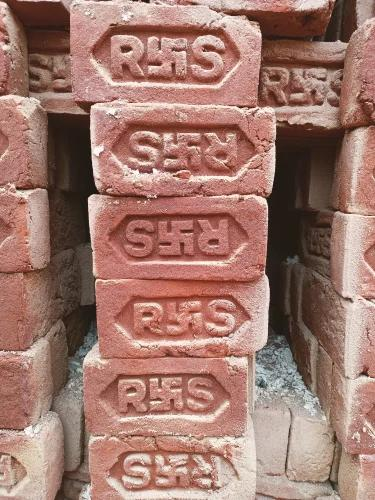brick: (69, 4, 263, 104), (93, 105, 277, 196), (89, 199, 265, 283), (98, 278, 270, 358), (84, 356, 251, 436), (90, 436, 259, 496), (255, 39, 344, 126), (288, 419, 335, 486), (258, 410, 289, 479)
